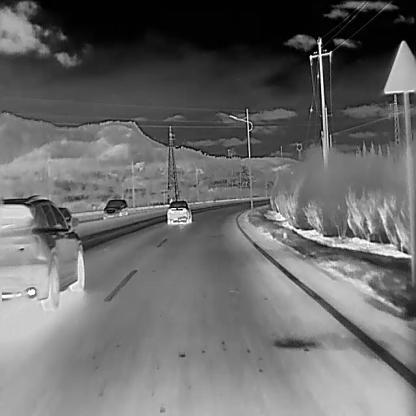car: (0, 195, 86, 311), (166, 199, 191, 224), (101, 198, 127, 219)
